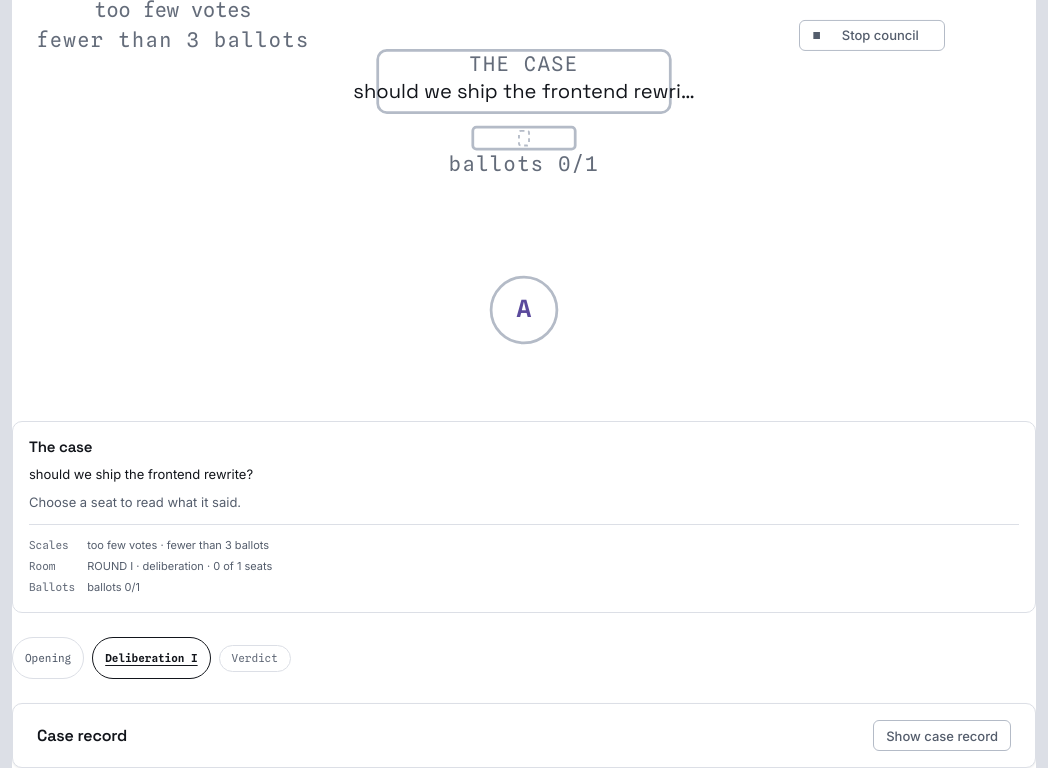
Council - an expired answer › reads an ok round-0 answer with no text as answered, not empty or failed (A11)
(page scrolled)
Step 1. Click the button "Show case record" → (942, 736), box x1=873 y1=720 x2=1011 y2=751
(page scrolled)
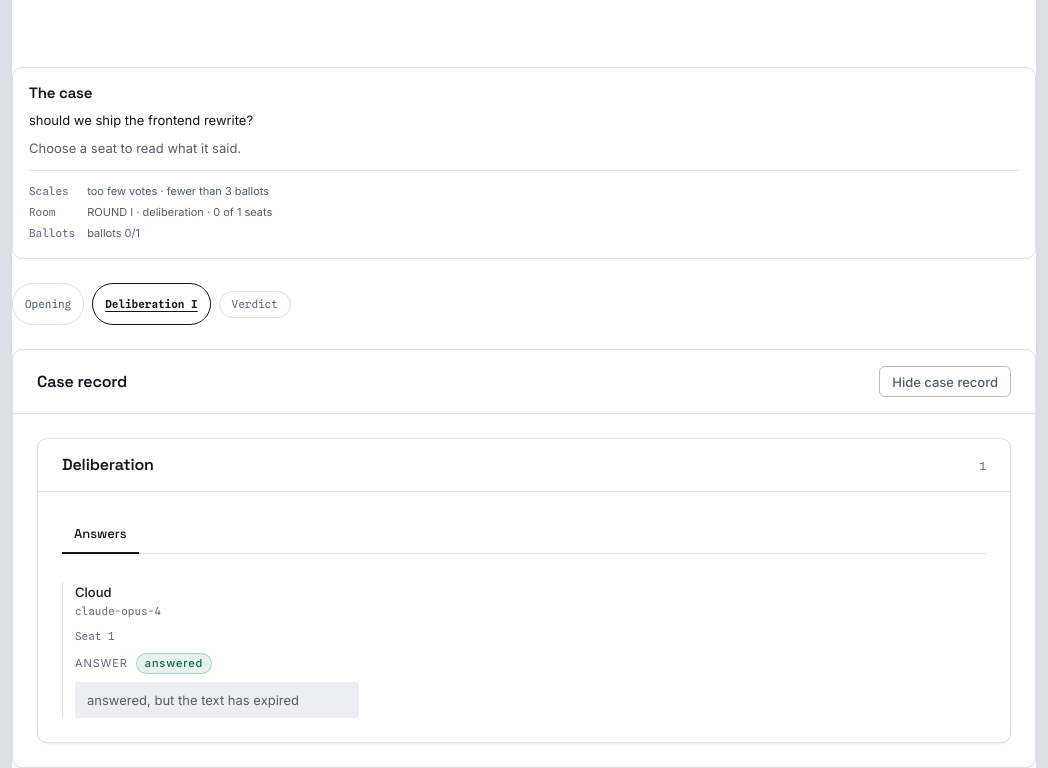
Expected: the text "answered, but the text has expired" is shown, x1=75 y1=682 x2=359 y2=718
